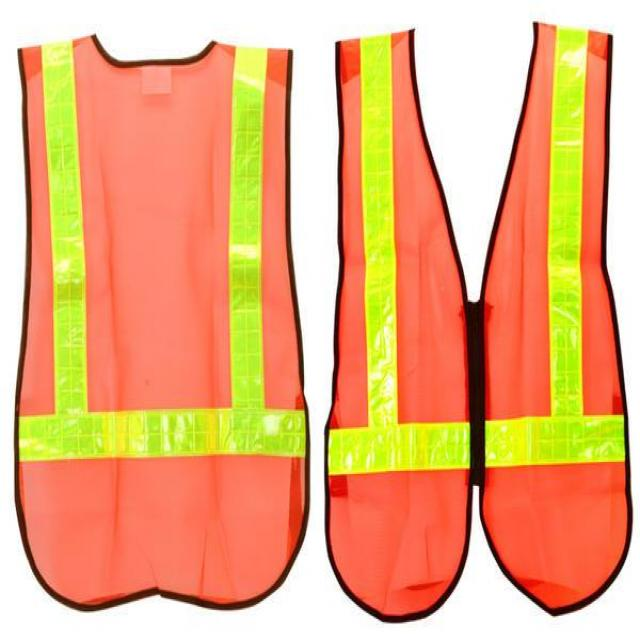Reflective-Jacket: (0, 32, 322, 613), (328, 13, 631, 626)
